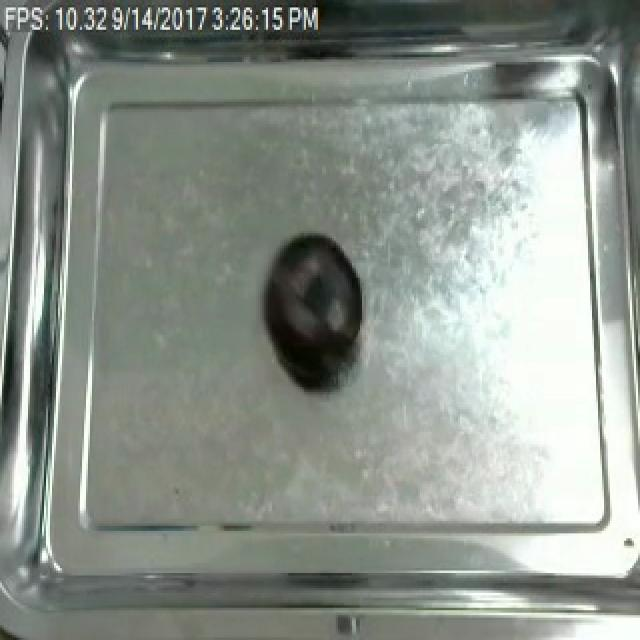Fruit: (258, 231, 366, 387)
